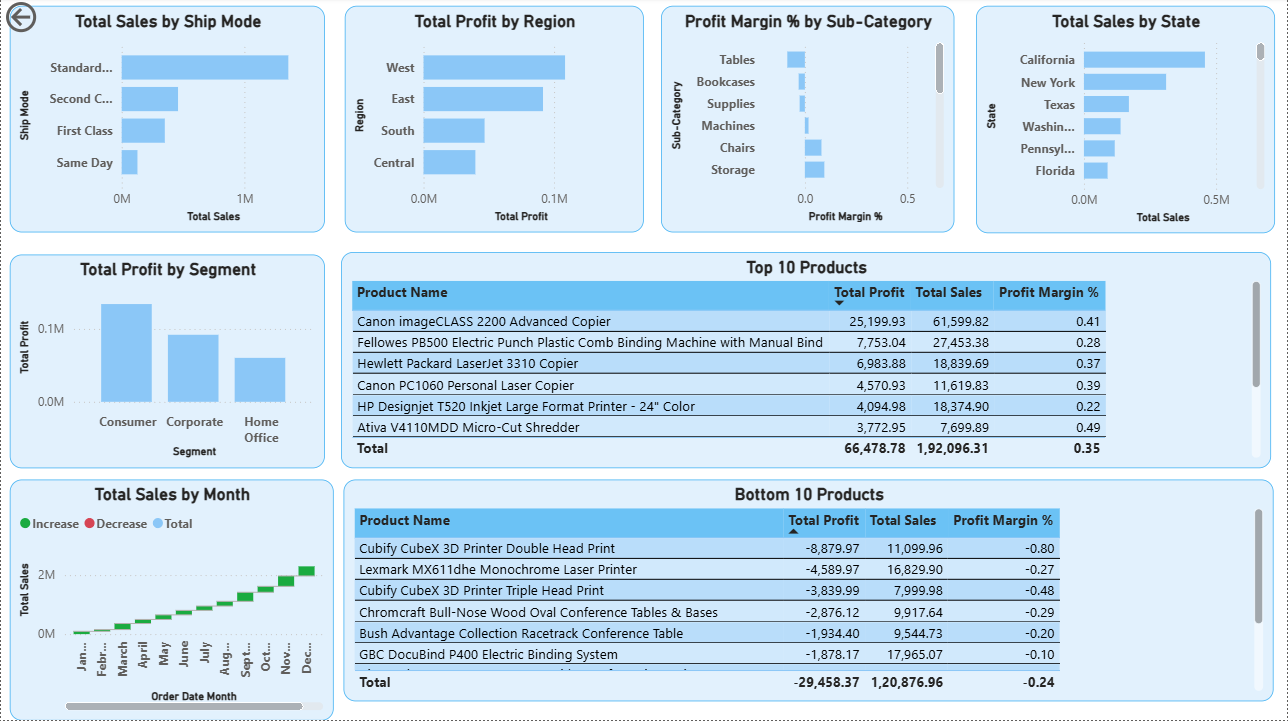

This screenshot's page, from the dashboard's own definition file:
{"tool":"powerbi","page":{"name":"Page 2","canvas":[1280,720],"ordinal":1},"visuals":[{"type":"barChart","fields":{"Category":["Sample - Superstore.Ship Mode"],"Y":["Sample - Superstore.Total Sales"]},"box":[8.1,9.3,314,225.6],"z":0},{"type":"barChart","fields":{"Category":["Sample - Superstore.Region"],"Y":["Sample - Superstore.Total Profit"]},"box":[341.9,9.3,297.7,225.6],"z":1000},{"type":"barChart","fields":{"Y":["Sample - Superstore.Profit Margin %"],"Category":["Sample - Superstore.Sub-Category"]},"box":[657,9.3,291.9,225.6],"z":2000},{"type":"barChart","fields":{"Y":["Sample - Superstore.Total Sales"],"Category":["Sample - Superstore.State"]},"box":[969.8,8.1,297.7,226.7],"z":3000},{"type":"lineClusteredColumnComboChart","fields":{"Category":["Sample - Superstore.Segment"],"Y":["Sample - Superstore.Total Profit"]},"box":[8.1,255.8,314,212.8],"z":4000},{"type":"tableEx","title":"Top 10 Products","fields":{"Values":["Sample - Superstore.Product Name","Sample - Superstore.Total Profit","Sample - Superstore.Total Sales","Sample - Superstore.Profit Margin %"]},"box":[338.4,253.5,925.6,215.1],"z":5000},{"type":"tableEx","title":"Bottom 10 Products","fields":{"Values":["Sample - Superstore.Product Name","Sample - Superstore.Total Profit","Sample - Superstore.Total Sales","Sample - Superstore.Profit Margin %"]},"box":[340.7,480.2,925.6,220.9],"z":6000},{"type":"actionButton","box":[0,0,100,40],"z":7000},{"type":"waterfallChart","fields":{"Category":["Sample - Superstore.Order Date.Variation.Date Hierarchy.Month"],"Y":["Sample - Superstore.Total Sales"]},"box":[8.7,480.2,322.2,240.1],"z":8000}]}

Visuals, with their boxes on the page's 1280x720 design canvas (x1, y1, x2, y2). These are canvas units, not pixel positions in the 1288x721 screenshot, which may show the page scaled, cropped or inside an application window:
barChart - Sample - Superstore.Ship Mode x Sample - Superstore.Total Sales: <box>8,9,322,235</box>
barChart - Sample - Superstore.Region x Sample - Superstore.Total Profit: <box>342,9,640,235</box>
barChart - Sample - Superstore.Profit Margin % x Sample - Superstore.Sub-Category: <box>657,9,949,235</box>
barChart - Sample - Superstore.Total Sales x Sample - Superstore.State: <box>970,8,1268,235</box>
lineClusteredColumnComboChart - Sample - Superstore.Segment x Sample - Superstore.Total Profit: <box>8,256,322,469</box>
"Top 10 Products" tableEx: <box>338,254,1264,469</box>
"Bottom 10 Products" tableEx: <box>341,480,1266,701</box>
actionButton: <box>0,0,100,40</box>
waterfallChart - Sample - Superstore.Order Date.Variation.Date Hierarchy.Month x Sample - Superstore.Total Sales: <box>9,480,331,720</box>
